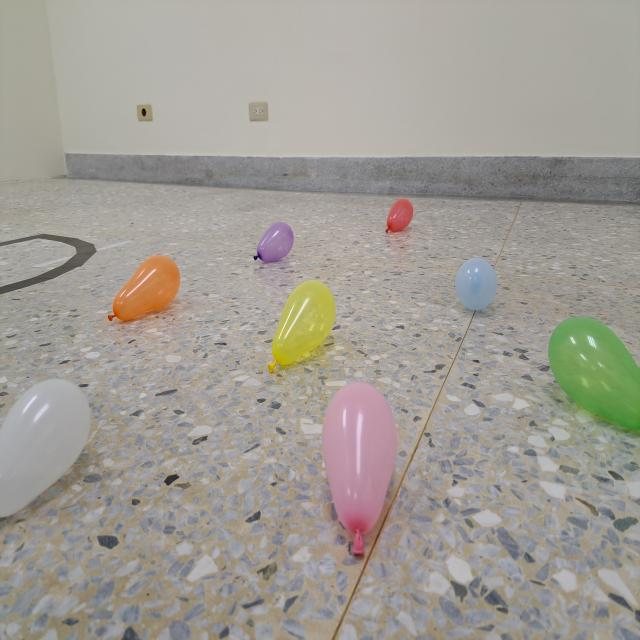other: (0, 375, 92, 519), (323, 381, 397, 557), (549, 316, 640, 436), (266, 279, 335, 372), (106, 254, 180, 323), (455, 257, 497, 311), (253, 218, 294, 266)
red: (386, 197, 412, 233)
